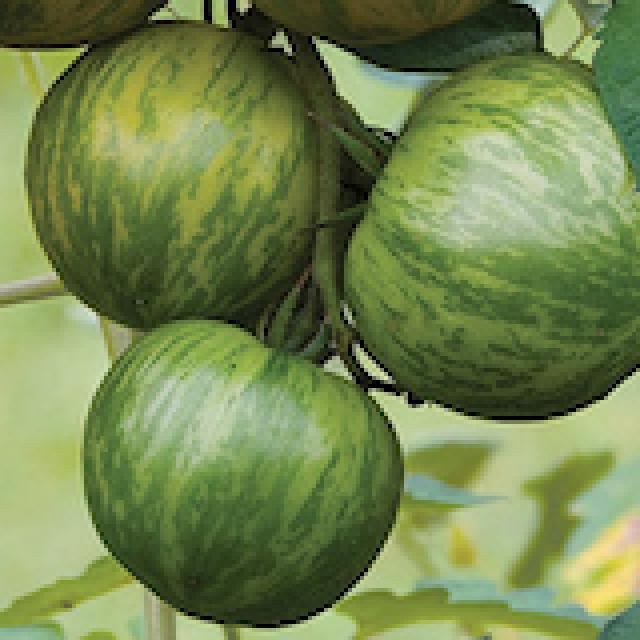yesil: (38, 26, 640, 624)
